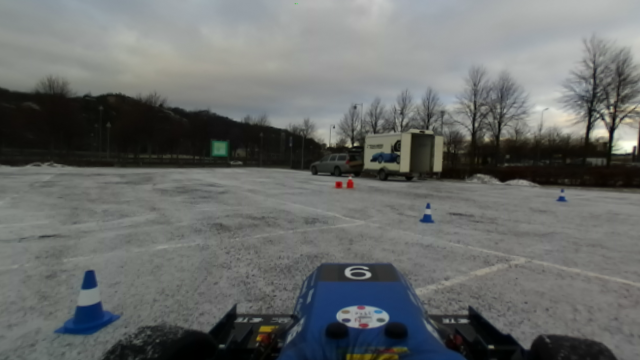blue: (55, 269, 124, 337), (419, 200, 435, 223)
